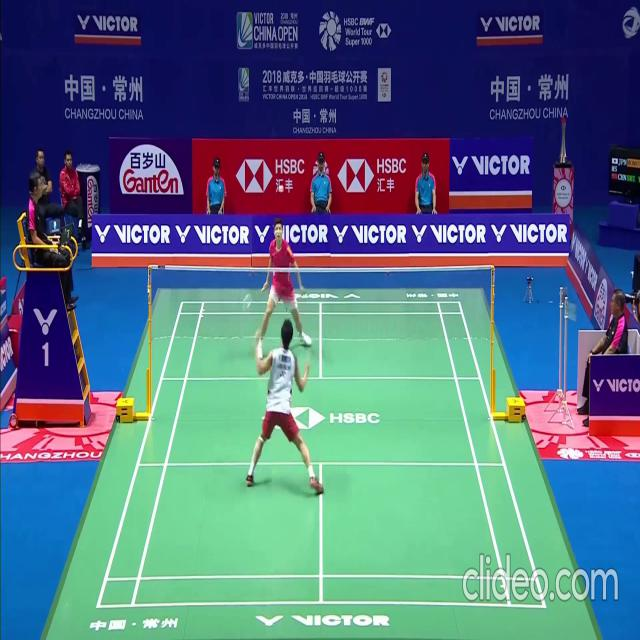Shuttlecock: (280, 186, 284, 194)
